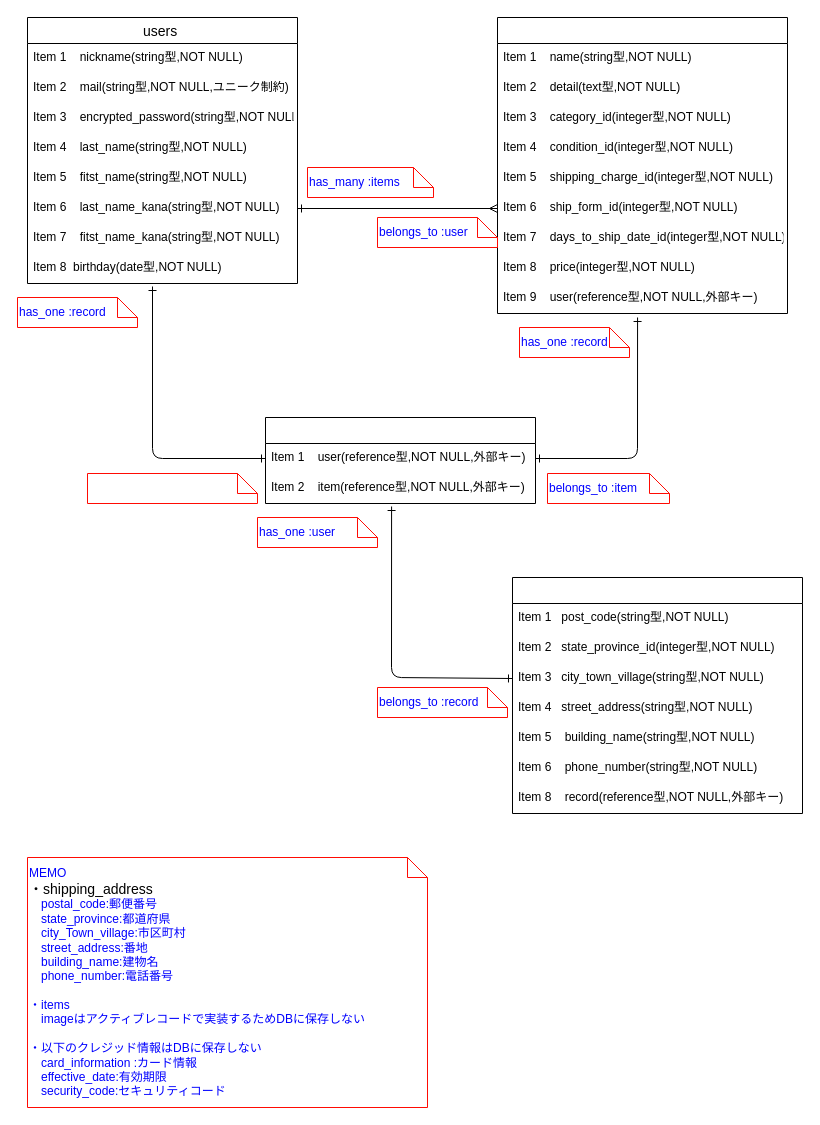
Some shapes in this 820 by 1125 pixel diagram are drawn without their labels. Each missing label, with the box of its shape:
has_one :shipping_addres: (86, 472, 258, 504)
items: (496, 16, 788, 314)
records: (264, 416, 536, 504)
shipping_address: (512, 576, 802, 814)
